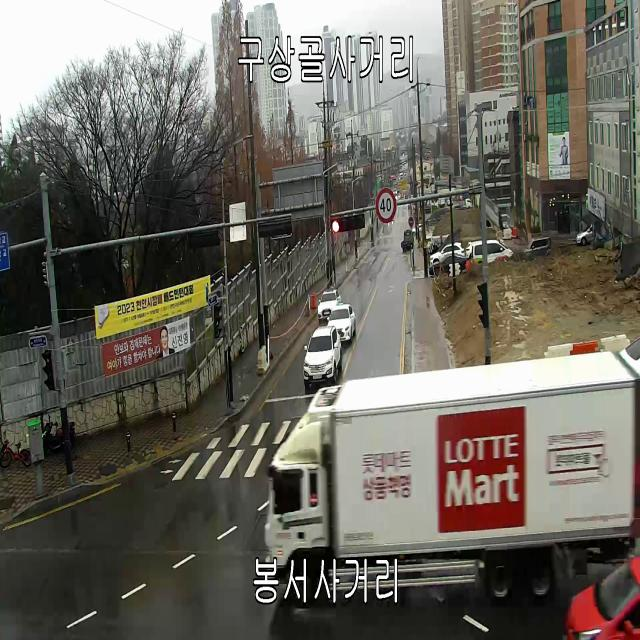Car: (566, 550, 640, 640), (303, 325, 343, 388), (327, 304, 356, 344), (471, 241, 513, 264), (430, 242, 465, 265), (429, 255, 467, 276), (318, 289, 342, 322), (524, 237, 552, 258), (576, 224, 593, 246), (460, 198, 472, 209), (466, 242, 472, 258)
Truck: (265, 346, 640, 627), (401, 229, 414, 252)
